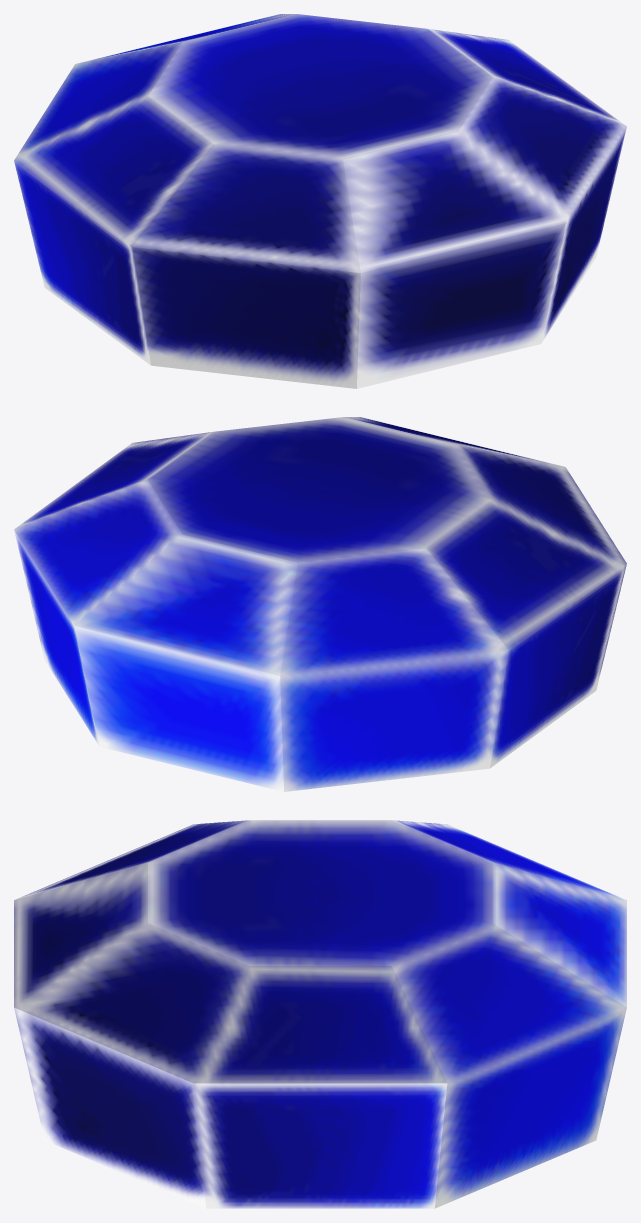
Rendered from ps2_save-icons_frequency.glb.
3 renders of one model, top to bottom at view 1: azimuth 30°, elevation 25°; view 2: azimuth 150°, elevation 25°; view 3: azimuth 270°, elevation 25°, orthographic. The views are drawn at different scales.
Visible parts, largest first — view 1: freq1.ico; view 2: freq1.ico; view 3: freq1.ico.
Part boxes in pixels (box(x1,y1,x2,y2)): freq1.ico: box(14, 14, 626, 388); freq1.ico: box(14, 417, 626, 791); freq1.ico: box(14, 820, 626, 1208).
Bounding box in the file's own units: 4.44 × 1.59 × 4.44.
1 material, 1 textured.
